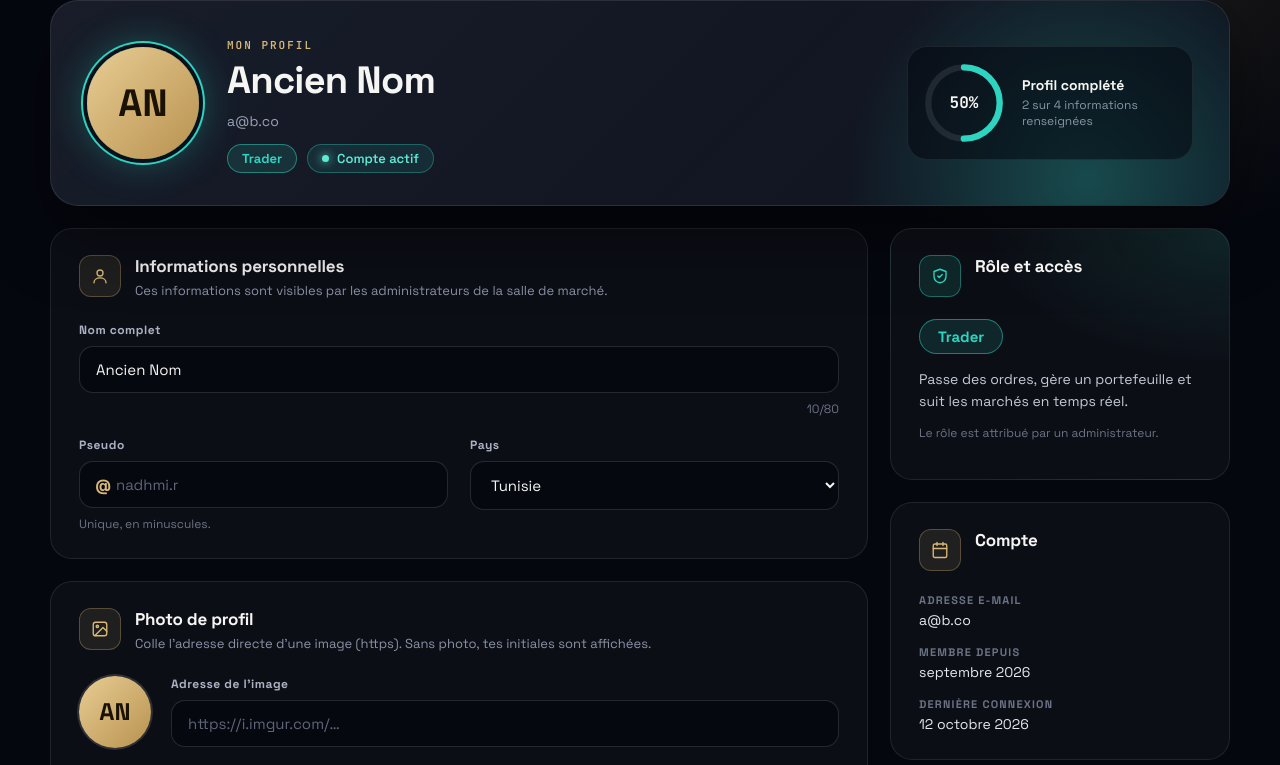
it: ProfilePage › enregistre via updateProfile
Replace the text in the field labelled "Nom complet" with "Nouveau" at (459, 370), box [79,346,839,393]
(page scrolled)
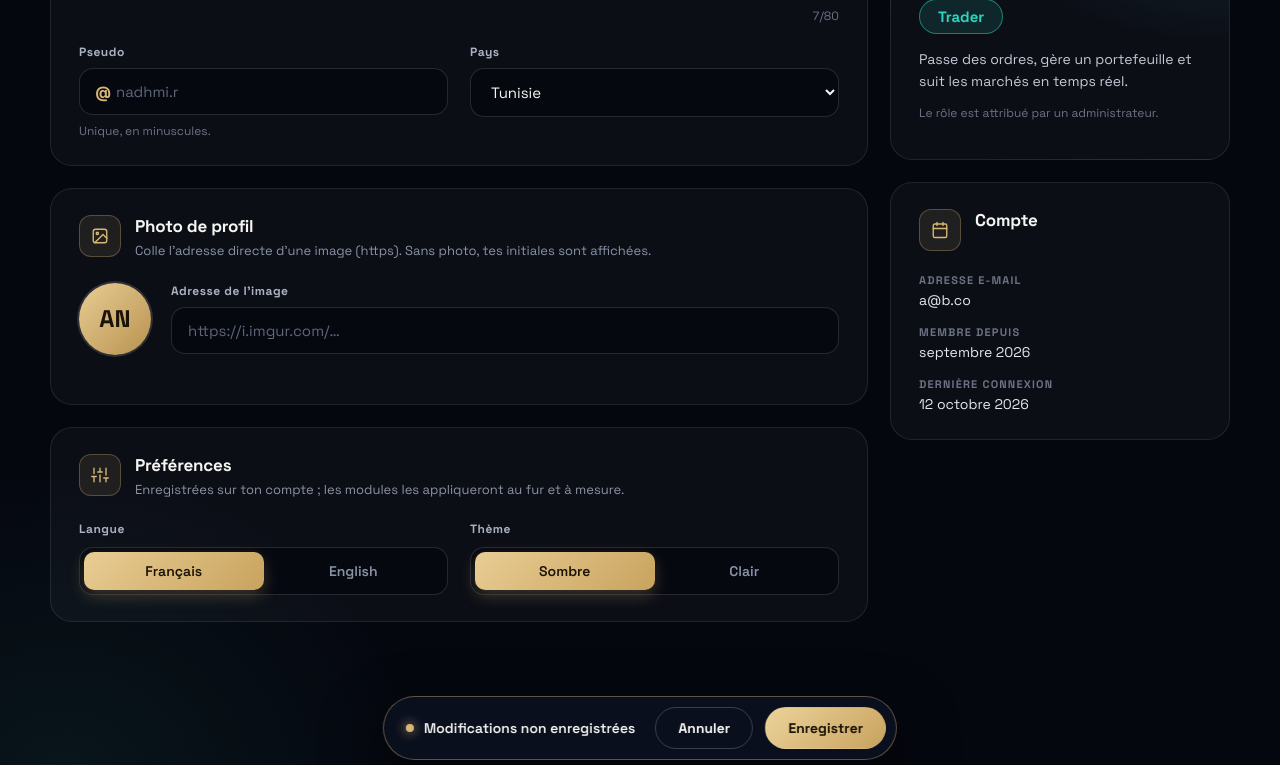
Click the radio button labelled "English" at (353, 571), box [264,552,443,590]
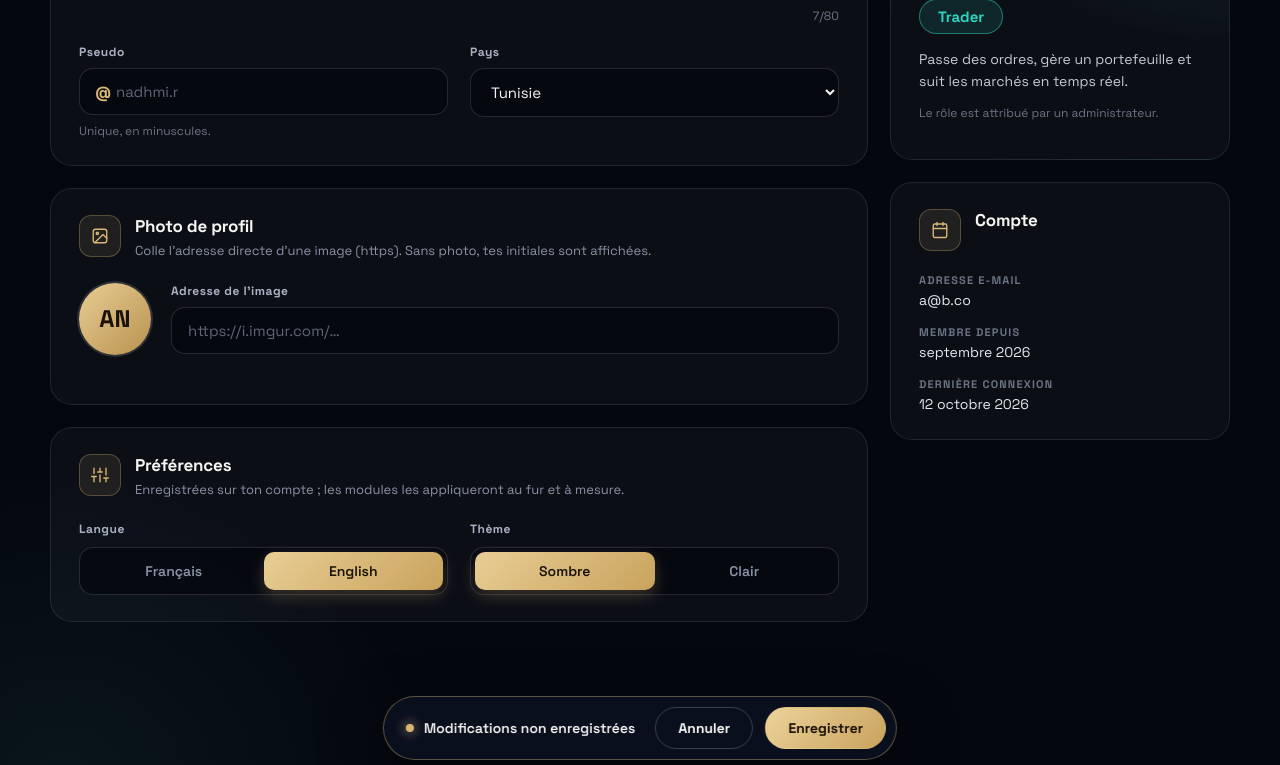
Click the button "Enregistrer" at (826, 728), box [765,707,886,749]
(page scrolled)
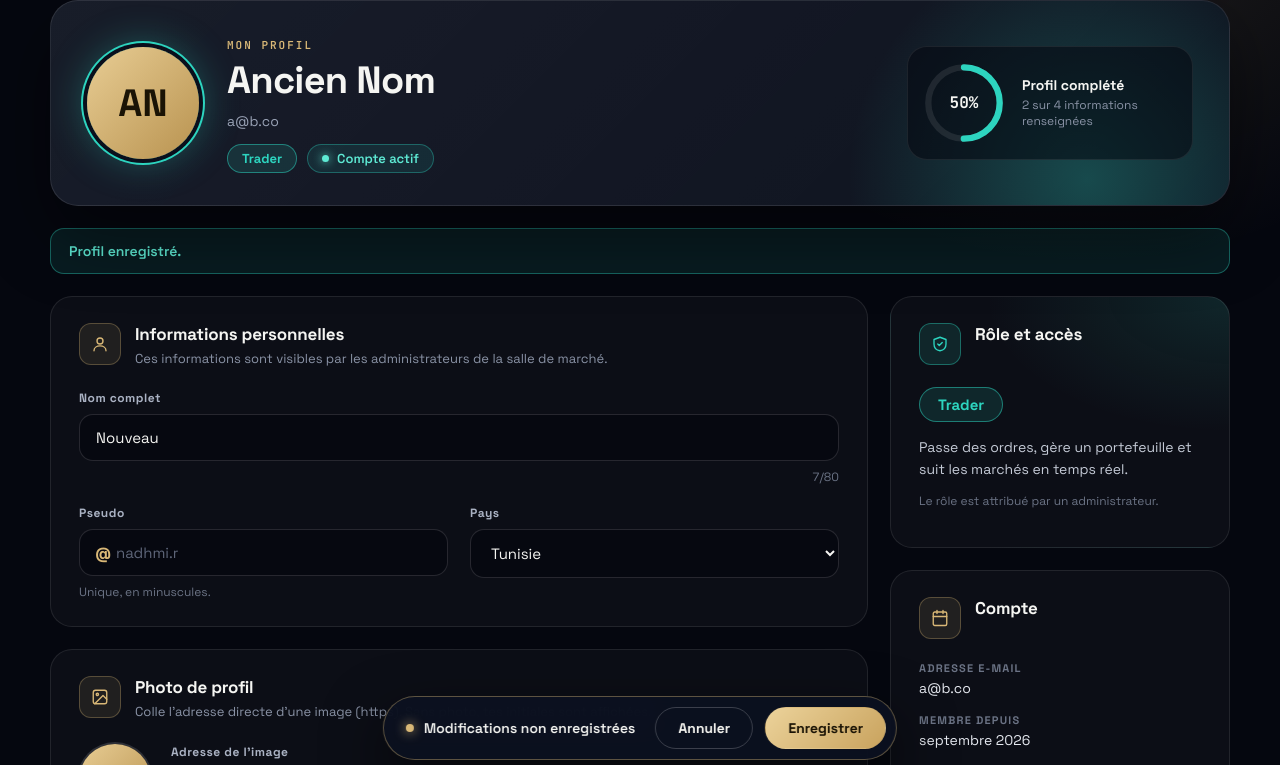
expect the text "Profil enregistré." is shown: met, box [50,228,1230,274]
